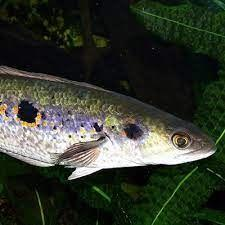Snakehead: (0, 68, 218, 181)
